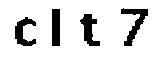7: (119, 4, 151, 52)
c: (12, 16, 39, 49)
l: (47, 6, 68, 49)
t: (75, 11, 103, 49)
